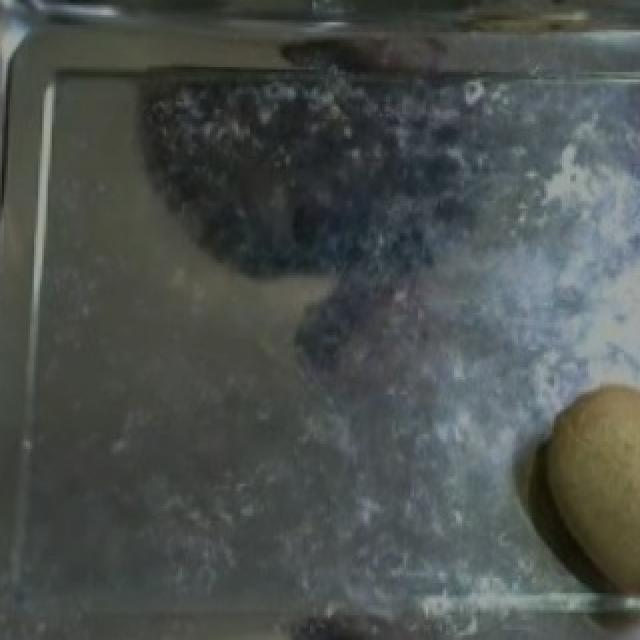Fruit: (526, 370, 640, 615)
